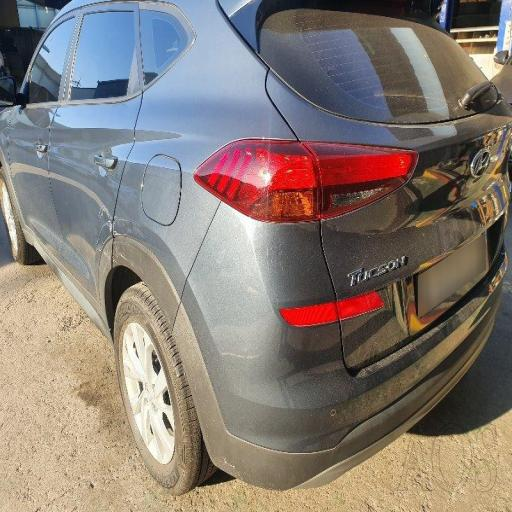dent: (424, 64, 512, 323)
scratch: (94, 181, 148, 290)
